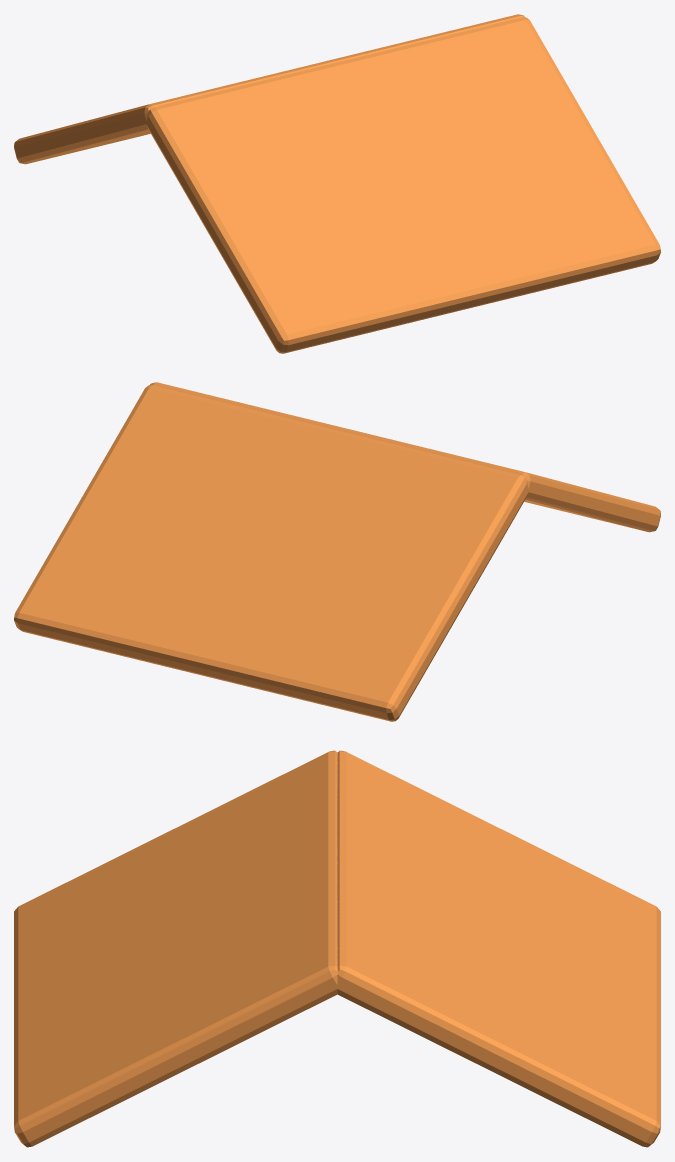
The model's file is FTF_Building_Roof_2m.glb.
3 renders of one model, top to bottom at view 1: azimuth 30°, elevation 25°; view 2: azimuth 150°, elevation 25°; view 3: azimuth 270°, elevation 25°, orthographic. The views are drawn at different scales.
Parts seen in each view (by area): view 1: SM_FTF_Building_Roof_2m_Slope_00, SM_FTF_Building_Roof_2m_Slope_01; view 2: SM_FTF_Building_Roof_2m_Slope_01, SM_FTF_Building_Roof_2m_Slope_00; view 3: SM_FTF_Building_Roof_2m_Slope_00, SM_FTF_Building_Roof_2m_Slope_01.
Part boxes in pixels (x1,y1,x2,y2): SM_FTF_Building_Roof_2m_Slope_00: [146, 17, 660, 353]; SM_FTF_Building_Roof_2m_Slope_01: [14, 14, 524, 164]; SM_FTF_Building_Roof_2m_Slope_01: [14, 385, 528, 721]; SM_FTF_Building_Roof_2m_Slope_00: [150, 382, 660, 532]; SM_FTF_Building_Roof_2m_Slope_00: [14, 750, 338, 1147]; SM_FTF_Building_Roof_2m_Slope_01: [337, 750, 660, 1147].
Size of the model in its own units: 2 by 0.7593 by 2.46.
